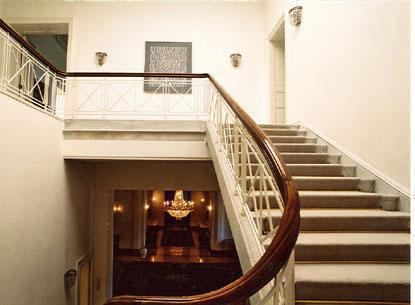Escaleras: (199, 76, 408, 304)
